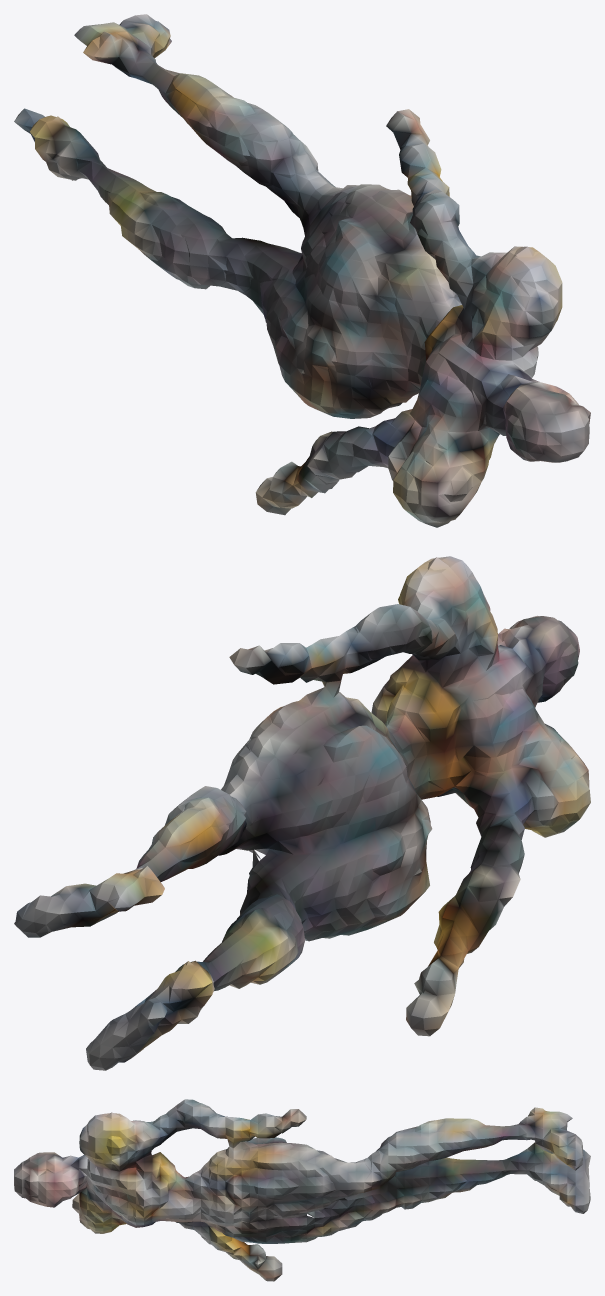
File: future_merchant_f_0.glb
The picture shows the model from 3 angles, top to bottom: view 1: azimuth 30°, elevation 25°; view 2: azimuth 150°, elevation 25°; view 3: azimuth 270°, elevation 25°; orthographic projection. The views are drawn at different scales.
Parts seen in each view (by area): view 1: world; view 2: world; view 3: world.
Part boxes in pixels (x1,y1,x2,y2): world: (14, 14, 590, 527); world: (14, 556, 590, 1070); world: (14, 1099, 590, 1281).
Size of the model in its own units: 0.2286 by 0.3971 by 0.971.
